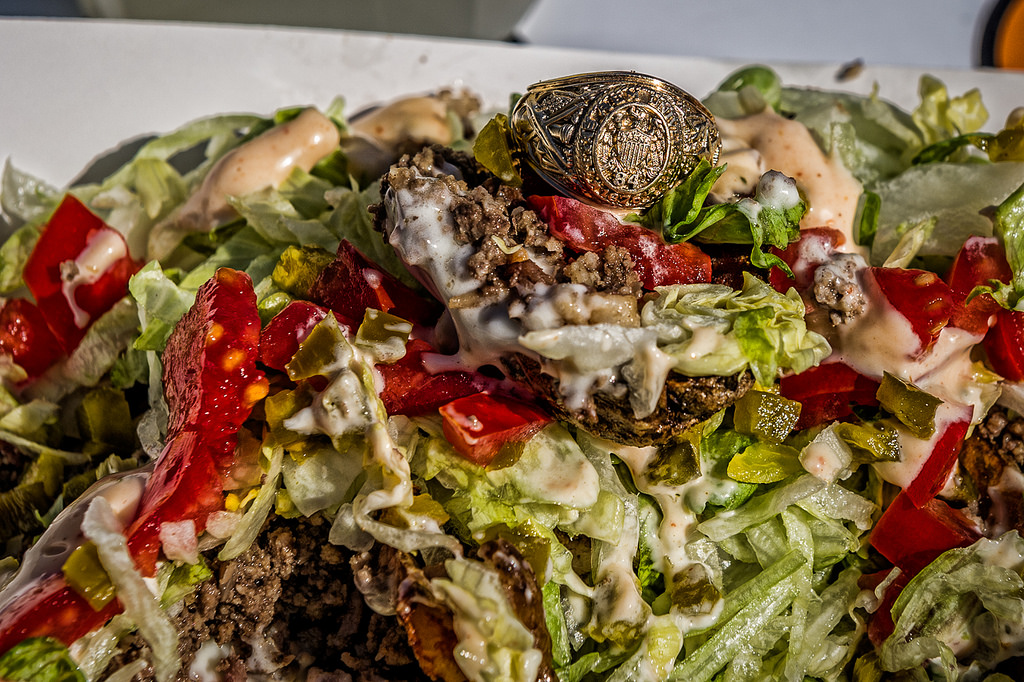chopped lettuce: (683, 469, 834, 682), (419, 448, 606, 541)
